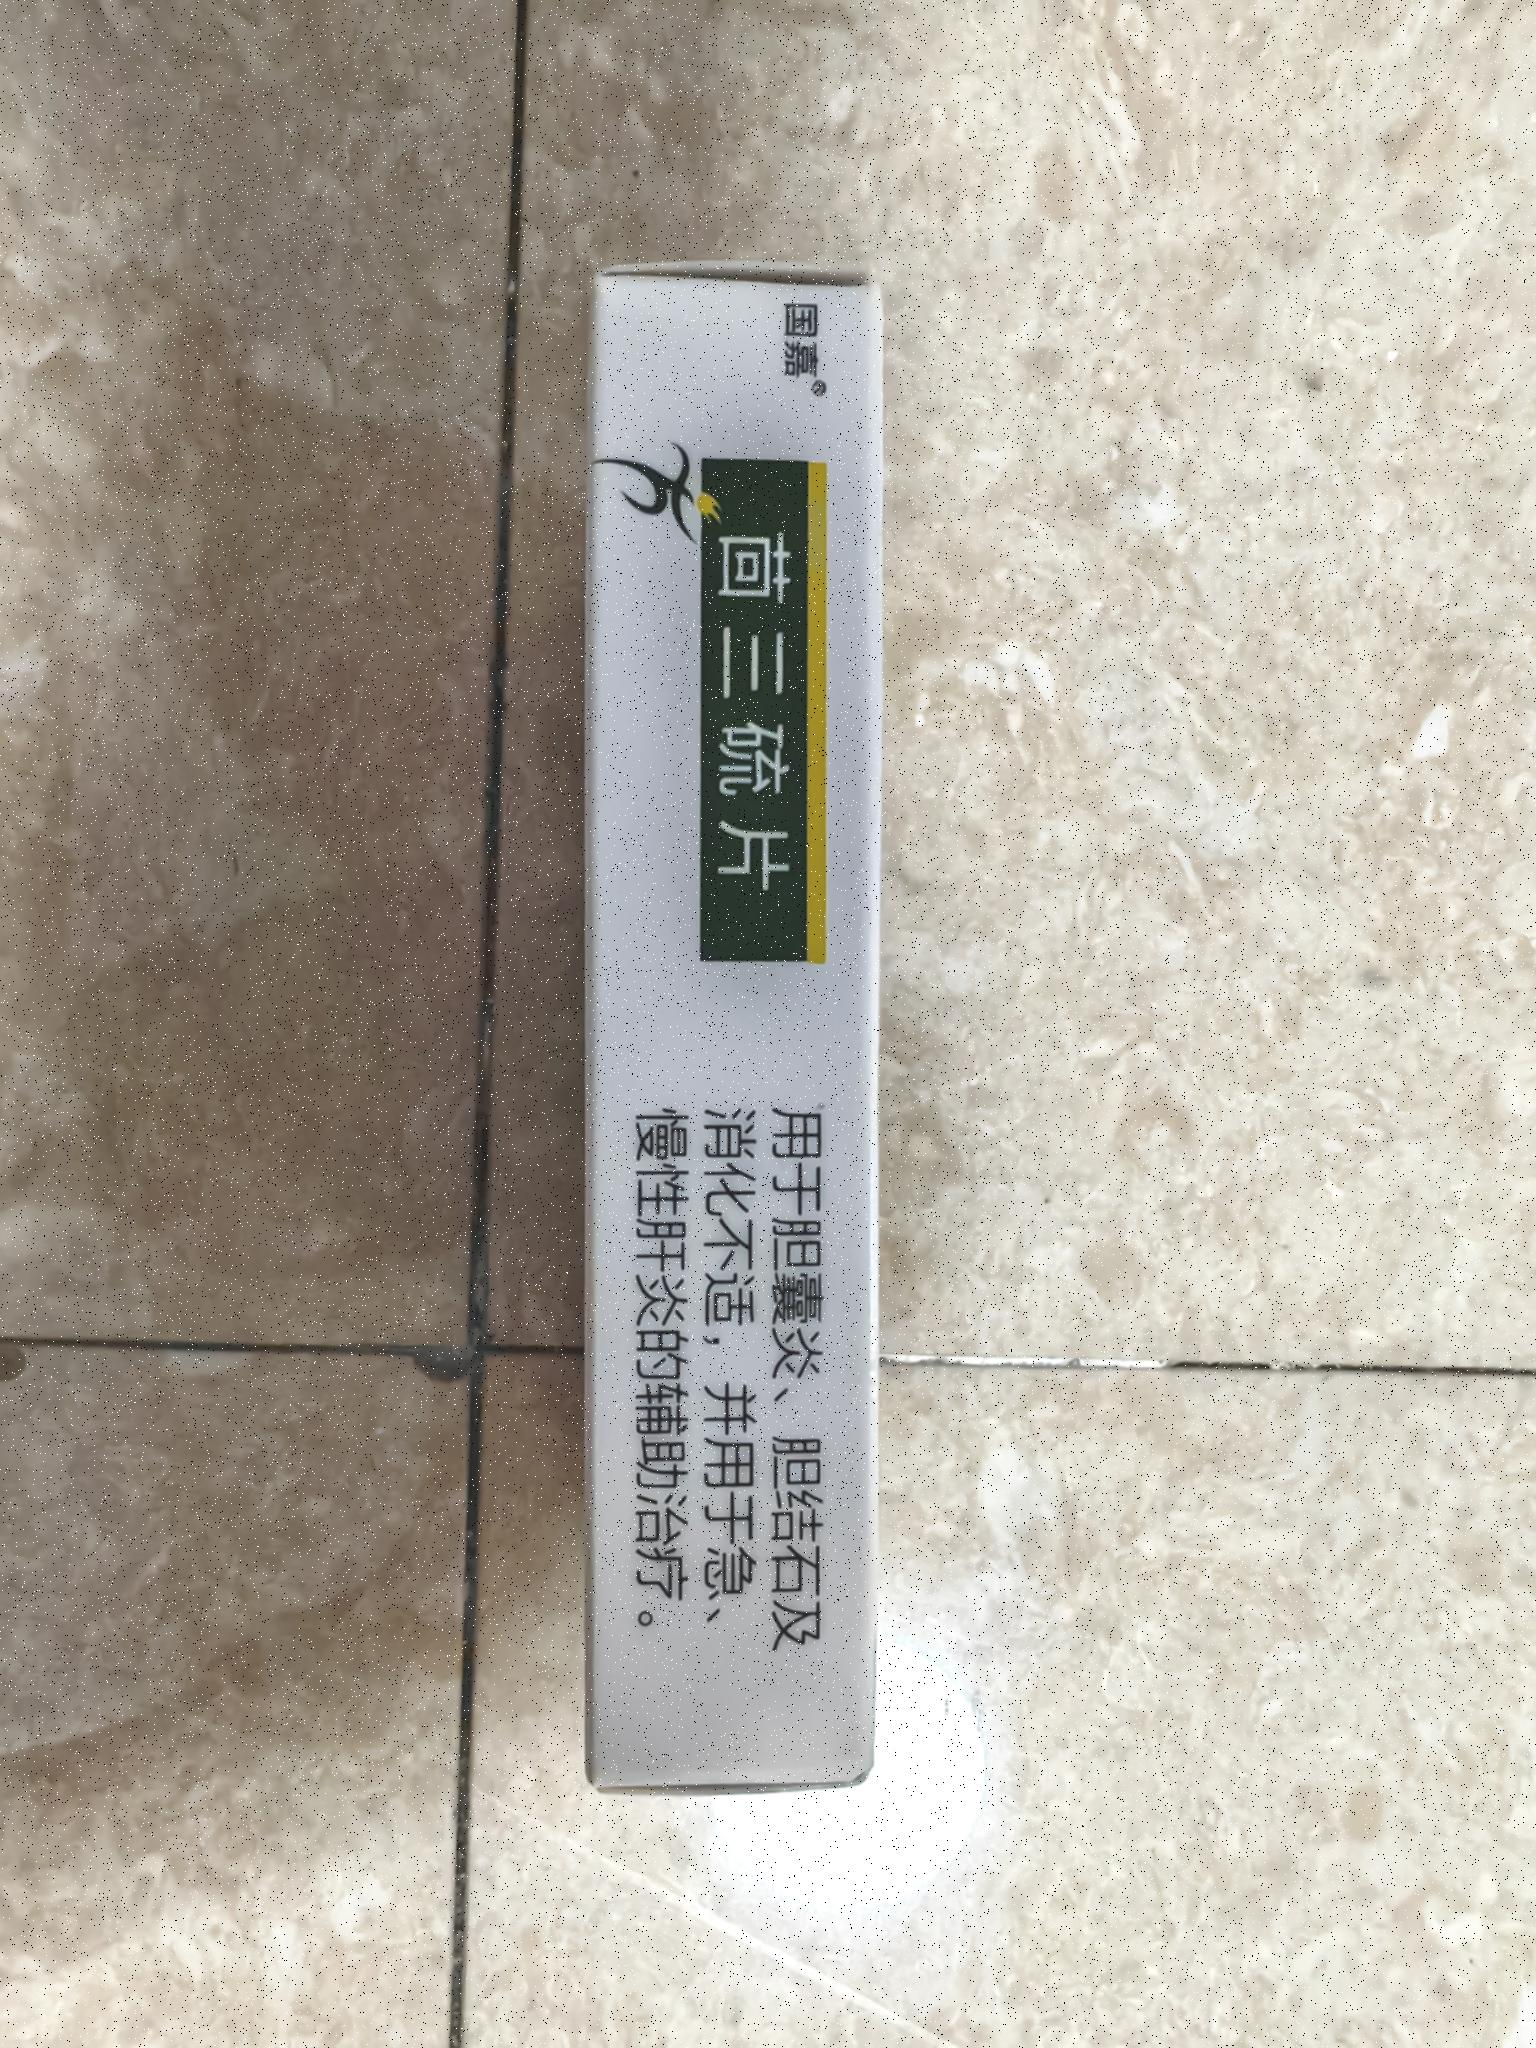Medicine4: (555, 242, 910, 1822)
